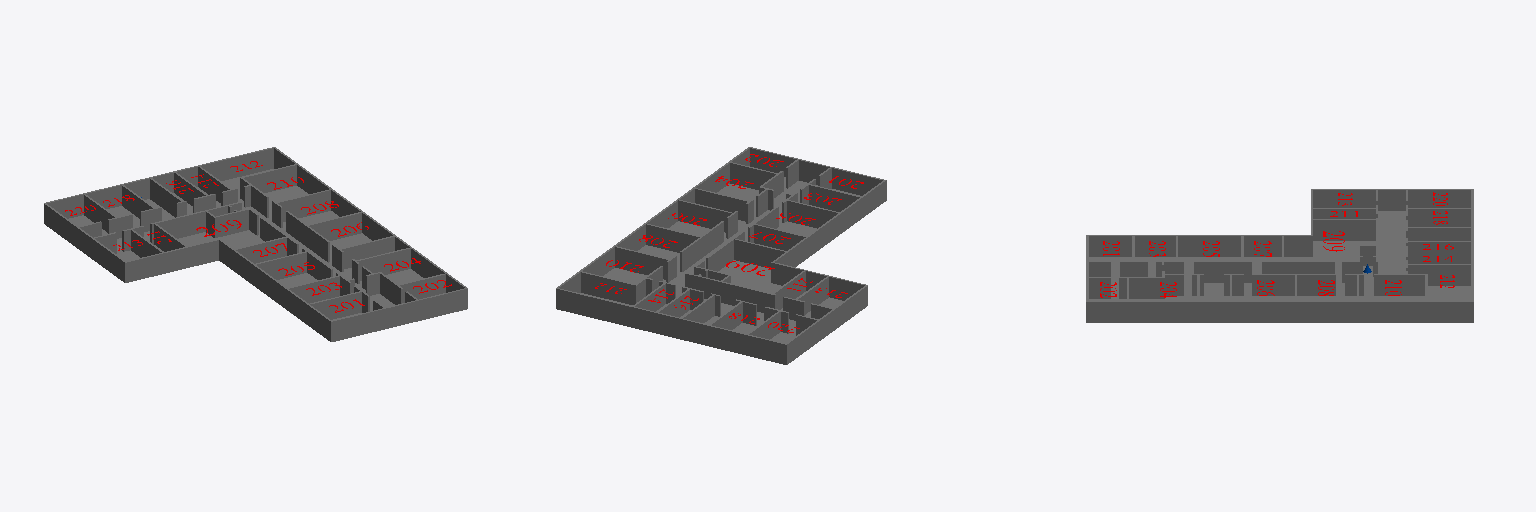
Rendered from bing2.obj.
The picture shows the model from 3 angles: view 1: azimuth 30°, elevation 25°; view 2: azimuth 150°, elevation 25°; view 3: azimuth 270°, elevation 25°; orthographic projection.
Visible parts, largest first — view 1: polySurface19, pCube59, pCube62, pCube57, pCube85, pCube61, pCube60, pCube166, pCube162, pCube128, pCube123, pCube159 (+13 smaller); view 2: pCube59, polySurface19, pCube57, pCube85, pCube62, pCube60, pCube61, pCube123, pCube166, pCube162, pCube130, pCube149 (+11 smaller); view 3: pCube57, polySurface19, pCube85, pCube60, pCube166, pCube157, pCube88, pCube120, pCube168, pCube163, pCube141, pCube154 (+4 smaller).
Part boxes in pixels (bbox=[...]): polySurface19: bbox=[69, 169, 423, 324]; pCube59: bbox=[44, 147, 273, 223]; pCube62: bbox=[330, 288, 465, 341]; pCube57: bbox=[273, 147, 467, 309]; pCube85: bbox=[219, 240, 331, 340]; pCube61: bbox=[125, 239, 220, 282]; pCube60: bbox=[45, 203, 125, 282]; pCube166: bbox=[286, 211, 329, 262]; pCube162: bbox=[275, 189, 330, 221]; pCube128: bbox=[355, 248, 410, 280]; pCube123: bbox=[243, 164, 296, 192]; pCube159: bbox=[252, 251, 307, 285]; pCube59: bbox=[558, 288, 787, 364]; polySurface19: bbox=[581, 177, 870, 342]; pCube57: bbox=[556, 147, 750, 309]; pCube85: bbox=[773, 181, 884, 266]; pCube62: bbox=[750, 147, 886, 201]; pCube60: bbox=[785, 286, 867, 364]; pCube61: bbox=[771, 262, 867, 300]; pCube123: bbox=[581, 271, 634, 304]; pCube166: bbox=[680, 221, 723, 271]; pCube162: bbox=[615, 246, 670, 279]; pCube130: bbox=[678, 200, 734, 232]; pCube149: bbox=[733, 238, 785, 268]; pCube57: bbox=[1086, 301, 1473, 322]; polySurface19: bbox=[1089, 211, 1470, 300]; pCube85: bbox=[1089, 235, 1310, 256]; pCube60: bbox=[1311, 189, 1473, 210]; pCube166: bbox=[1252, 274, 1335, 295]; pCube157: bbox=[1313, 219, 1375, 240]; pCube88: bbox=[1407, 208, 1473, 226]; pCube120: bbox=[1407, 264, 1473, 285]; pCube168: bbox=[1374, 274, 1427, 295]; pCube163: bbox=[1194, 261, 1251, 282]; pCube141: bbox=[1119, 277, 1164, 298]; pCube154: bbox=[1262, 261, 1334, 273].
Bounding box in the file's own units: 2351 × 202 × 3412.